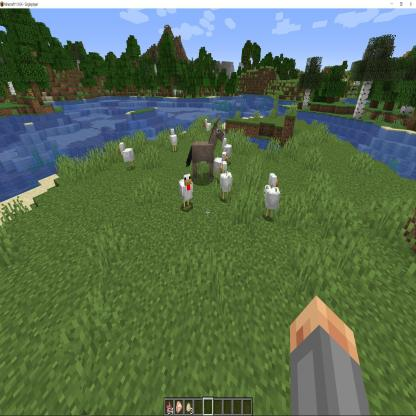minecraft-pigs: (240, 182, 310, 320), (90, 53, 100, 62)
